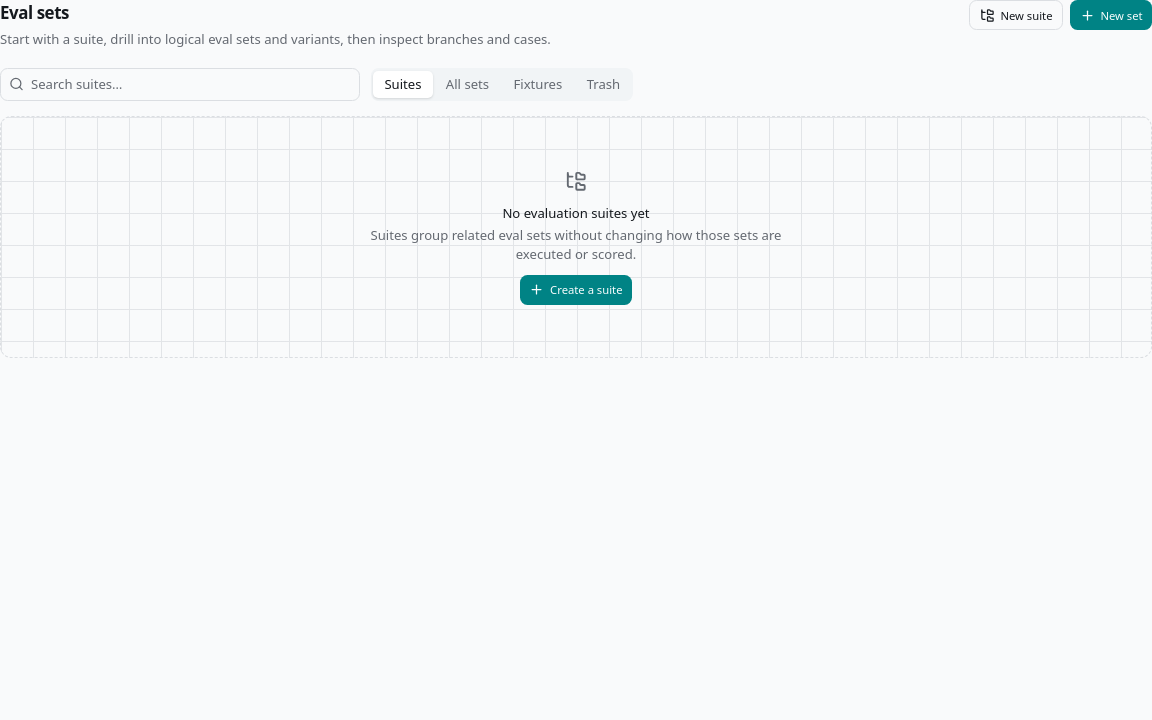
Test case: SetsPage › will not submit an empty set name
The image size is (1152, 720).
expect the text "No evaluation suites yet" is shown: met, box top-left (502, 204), bottom-right (650, 222)
Click the button "New set": [1111, 15] box top-left (1070, 0), bottom-right (1151, 30)
(page scrolled)
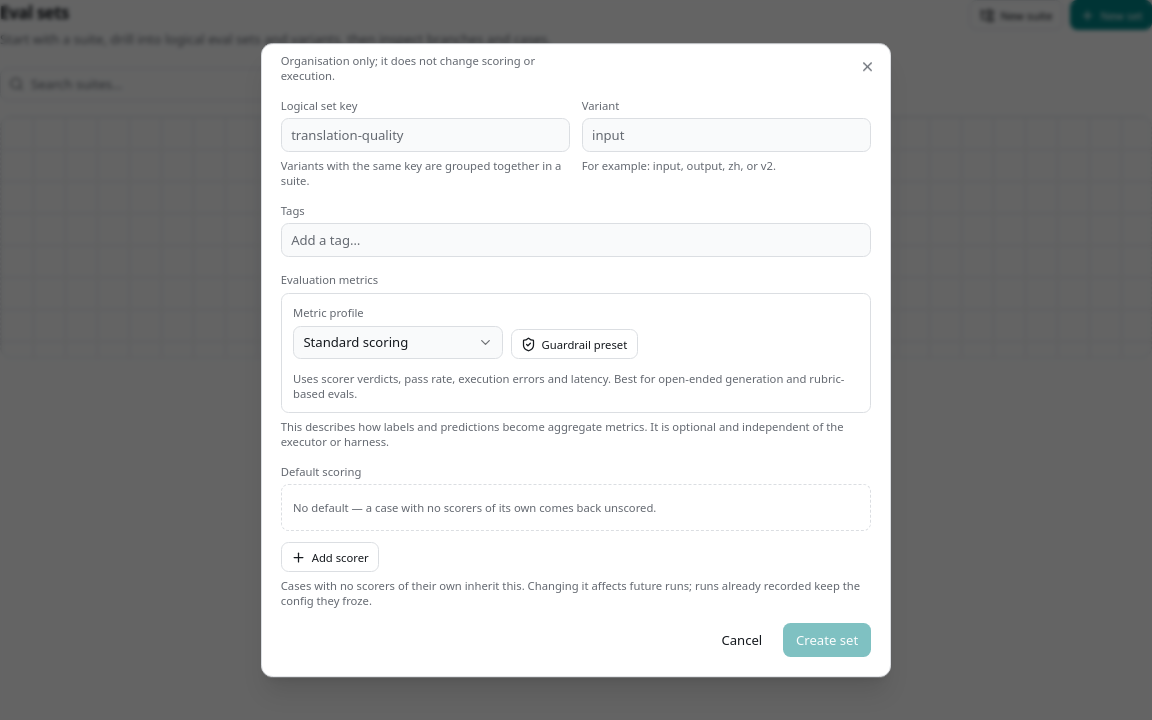
expect the button "Create set" is disabled: met, box top-left (783, 623), bottom-right (871, 657)
